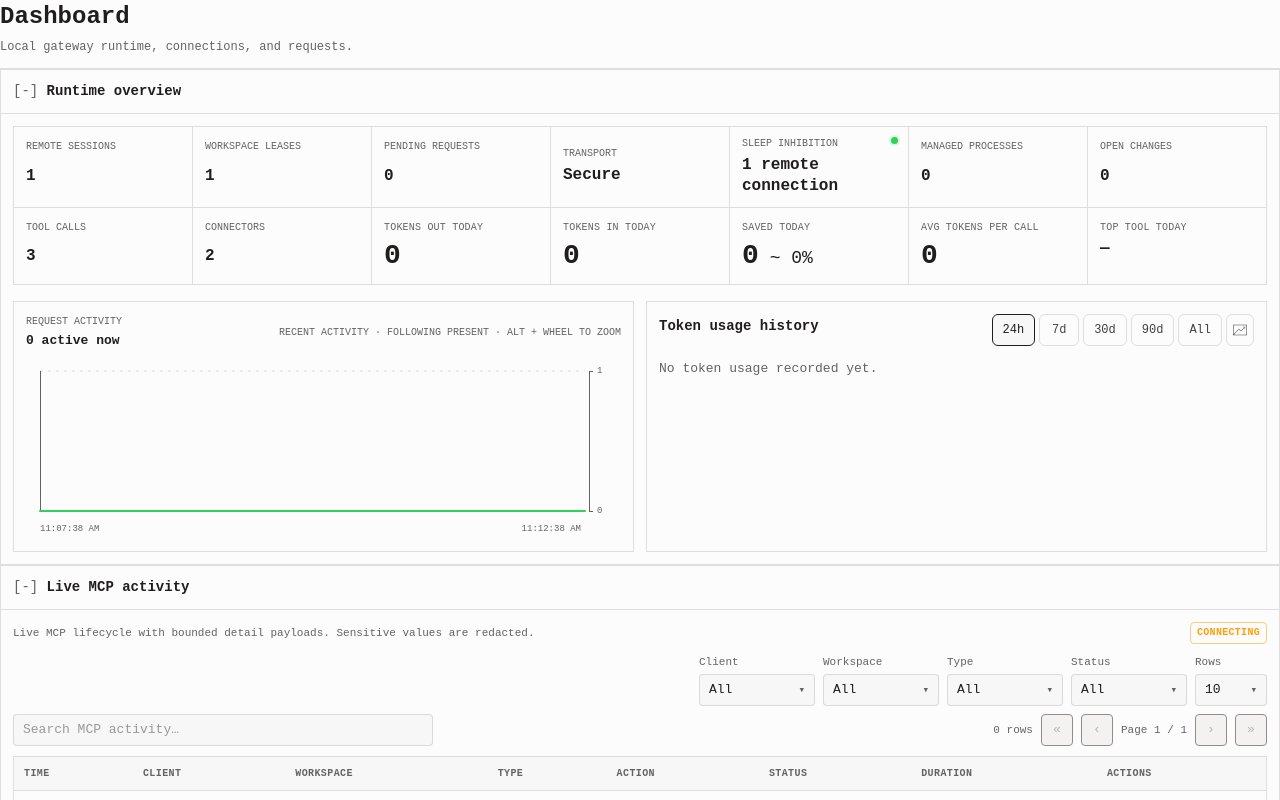
Runtime overview opens transport validation details
Click the button "Transport Secure" at {"x": 640, "y": 167}, box [551,127,730,208]
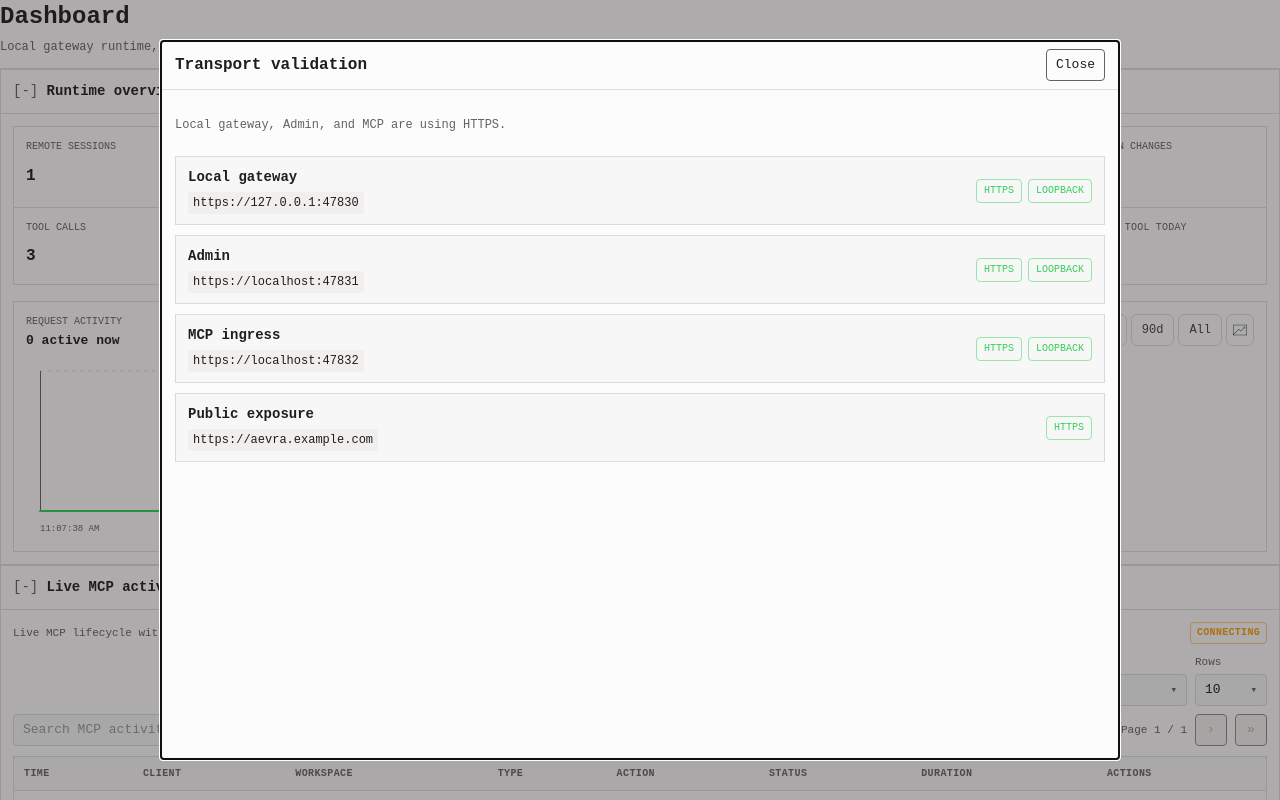
Expected: the text "https://127.0.0.1:47830" is shown, [188,192,364,214]
Expected: the text "https://localhost:47831" is shown, [188,271,364,293]
Expected: the text "https://localhost:47832" is shown, [188,350,364,372]
